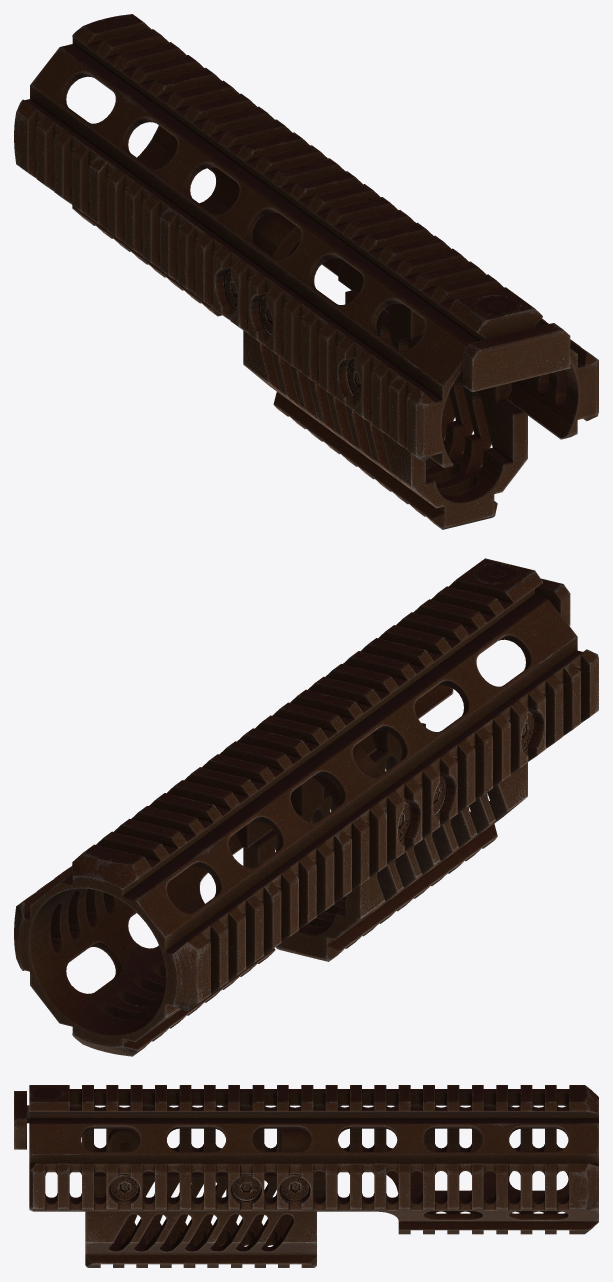
The picture shows the model from 3 angles, top to bottom: view 1: azimuth 30°, elevation 25°; view 2: azimuth 150°, elevation 25°; view 3: azimuth 270°, elevation 25°; orthographic projection. The views are drawn at different scales.
Parts seen in each view (by area): view 1: TW_5d15ce51d7ad1a1eff619092_PZ_Import; view 2: TW_5d15ce51d7ad1a1eff619092_PZ_Import; view 3: TW_5d15ce51d7ad1a1eff619092_PZ_Import.
Boxes of the visible parts, x1,y1,x2,y2 form: TW_5d15ce51d7ad1a1eff619092_PZ_Import: [14, 14, 598, 529]; TW_5d15ce51d7ad1a1eff619092_PZ_Import: [14, 558, 598, 1056]; TW_5d15ce51d7ad1a1eff619092_PZ_Import: [14, 1085, 598, 1267].
Size of the model in its own units: 0.034 by 0.136 by 0.0426.
1 material, 1 textured.
